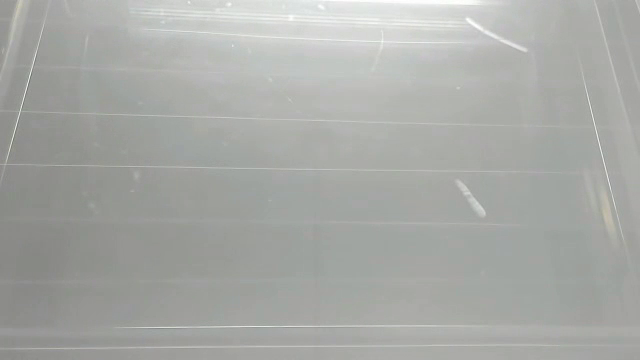alpha: (459, 14, 535, 59), (452, 174, 495, 221)
